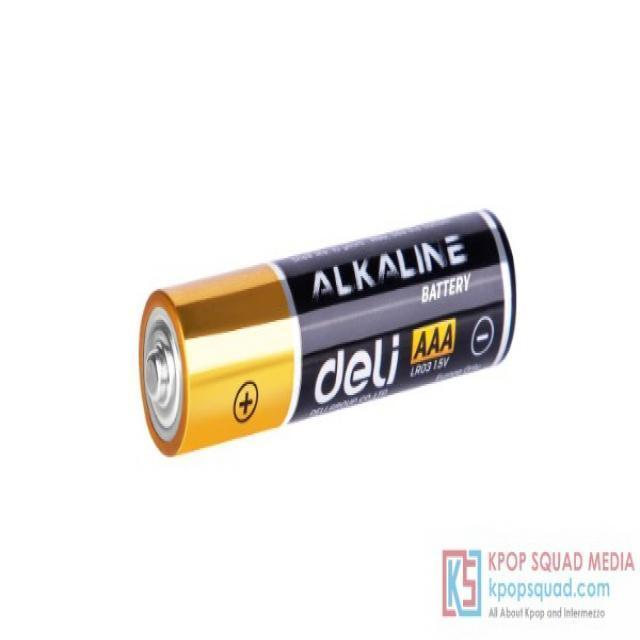Hazard: (136, 209, 525, 462)
